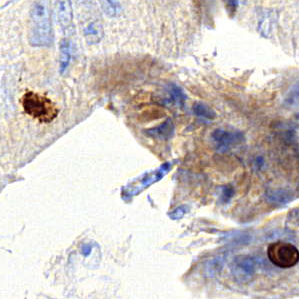Lymphocyte: (21, 90, 59, 124)
